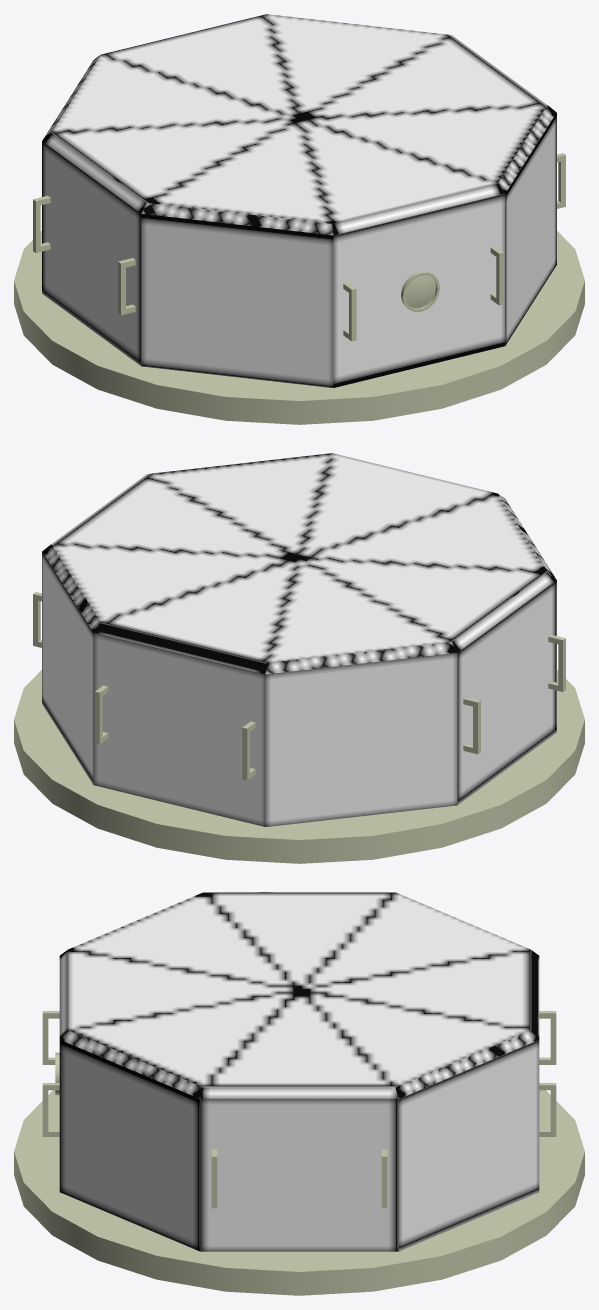
File: Acamar_Lab_2_Interior.obj
The picture shows the model from 3 angles, top to bottom: view 1: azimuth 30°, elevation 25°; view 2: azimuth 150°, elevation 25°; view 3: azimuth 270°, elevation 25°; orthographic projection.
Parts seen in each view (by area): view 1: Acamar_Lab_2_Interior, Acamar_Lab_2_Mask; view 2: Acamar_Lab_2_Interior, Acamar_Lab_2_Mask; view 3: Acamar_Lab_2_Interior, Acamar_Lab_2_Mask.
Boxes of the visible parts, x1,y1,x2,y2 form: Acamar_Lab_2_Interior: [42, 14, 556, 387]; Acamar_Lab_2_Mask: [14, 153, 584, 424]; Acamar_Lab_2_Interior: [42, 453, 556, 826]; Acamar_Lab_2_Mask: [14, 592, 584, 863]; Acamar_Lab_2_Interior: [59, 892, 539, 1251]; Acamar_Lab_2_Mask: [14, 1011, 584, 1295].
Size of the model in its own units: 2.5 by 0.895 by 2.5.
2 materials, 1 textured.
